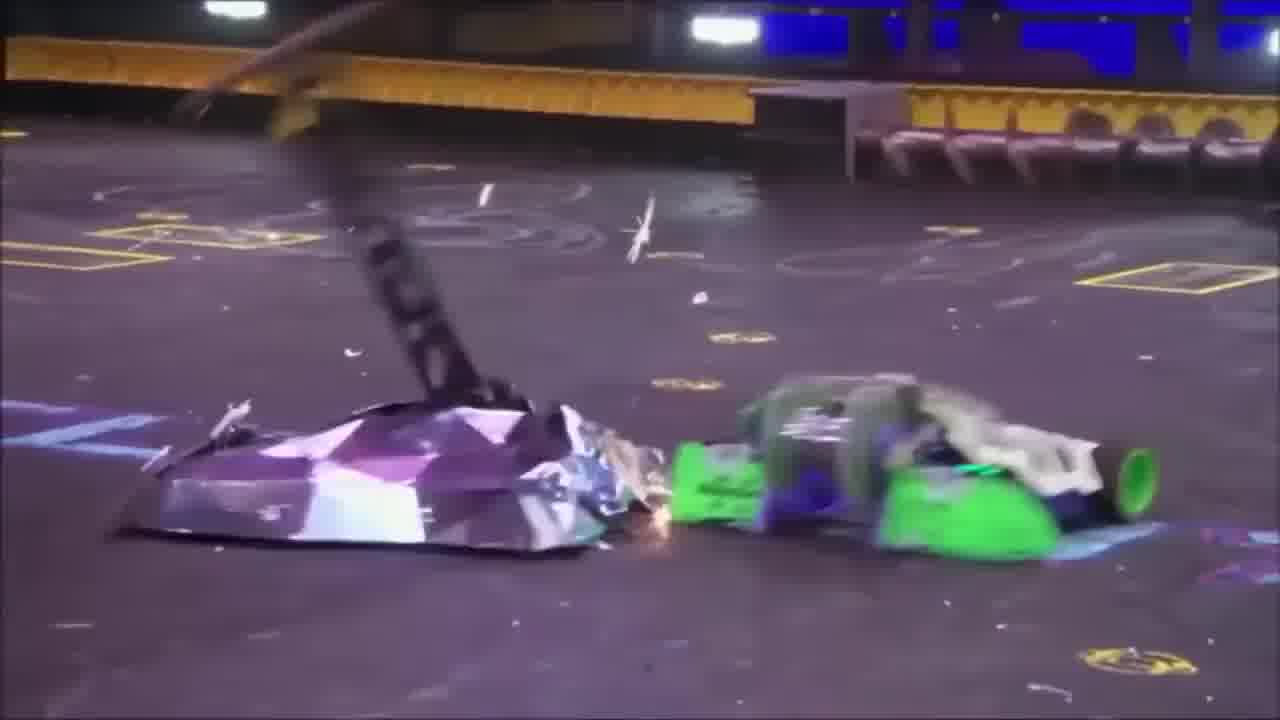combatbot: (106, 369, 667, 556), (670, 376, 1158, 564)
